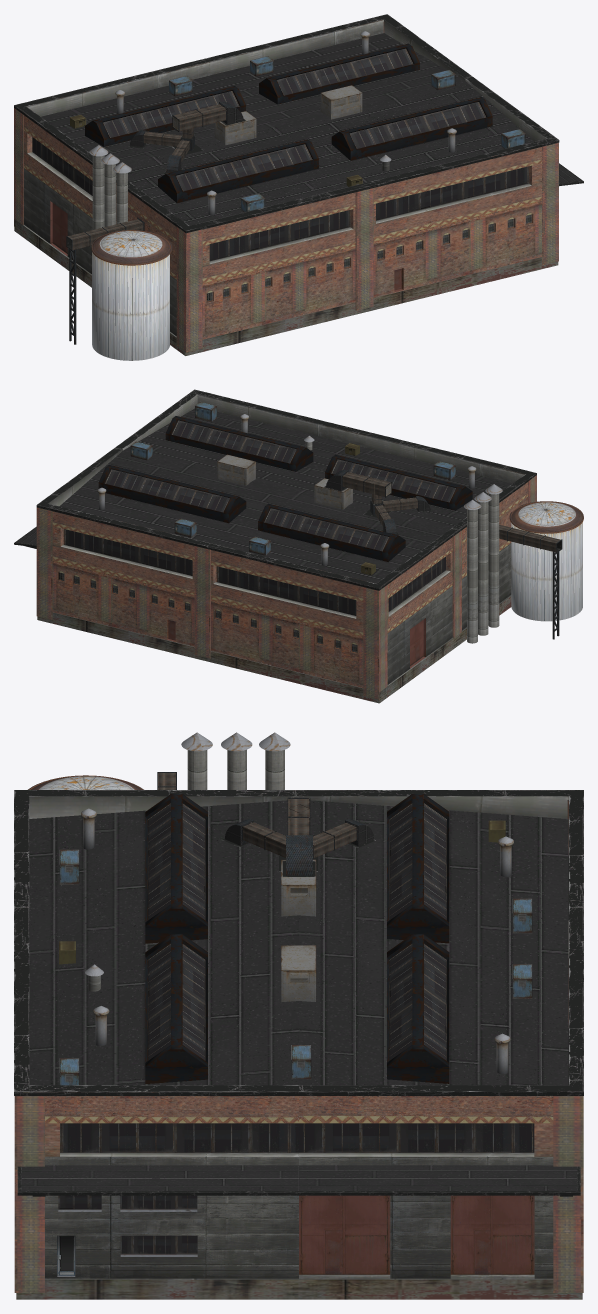
The model's file is factory.glb.
3 renders of one model, top to bottom at view 1: azimuth 30°, elevation 25°; view 2: azimuth 150°, elevation 25°; view 3: azimuth 270°, elevation 25°, orthographic. The views are drawn at different scales.
Visible parts, largest first — view 1: Vacc_0, Tanks_1; view 2: Vacc_0, Tanks_1; view 3: Vacc_0, Tanks_1.
Boxes of the visible parts, <box> form: Vacc_0: <box>14,14,583,355</box>; Tanks_1: <box>66,145,172,360</box>; Vacc_0: <box>14,389,536,703</box>; Tanks_1: <box>464,484,583,643</box>; Vacc_0: <box>14,790,583,1299</box>; Tanks_1: <box>28,732,290,789</box>.
Size of the model in its own units: 56.99 by 18.77 by 36.15.
1 material, 1 textured.
